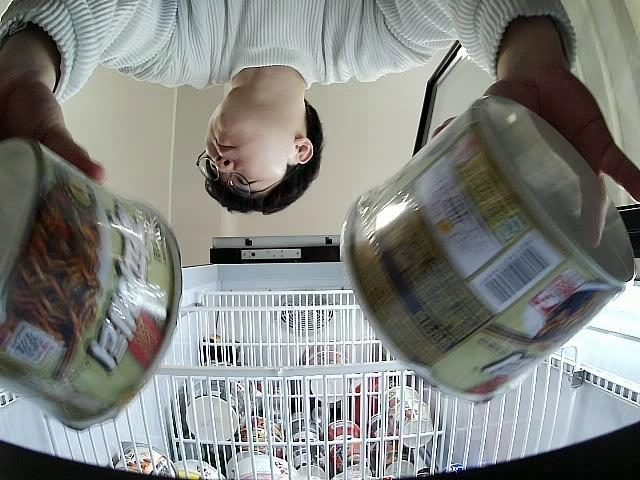03_chapagetti_L: (340, 94, 636, 403), (0, 137, 182, 433)
